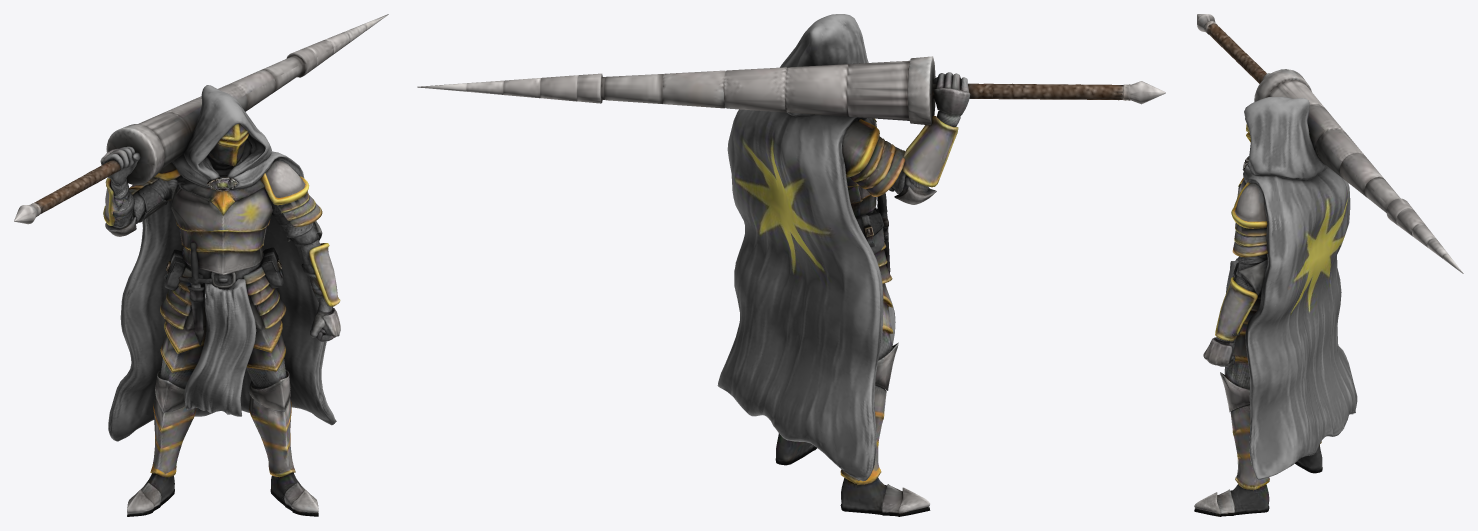
Rendered from MZ4250 - Human Male Paladin_Pelor.glb.
The picture shows the model from 3 angles, left to right: view 1: azimuth 30°, elevation 25°; view 2: azimuth 150°, elevation 25°; view 3: azimuth 270°, elevation 25°; orthographic projection. The views are drawn at different scales.
Parts seen in each view (by area): view 1: Body.004; view 2: Body.004; view 3: Body.004.
Boxes of the visible parts, x1,y1,x2,y2 form: Body.004: (14,14,388,516); Body.004: (417,14,1165,516); Body.004: (1194,14,1463,516).
Size of the model in its own units: 121 by 91.35 by 57.37.
Materials: 4 (4 with a texture image).
